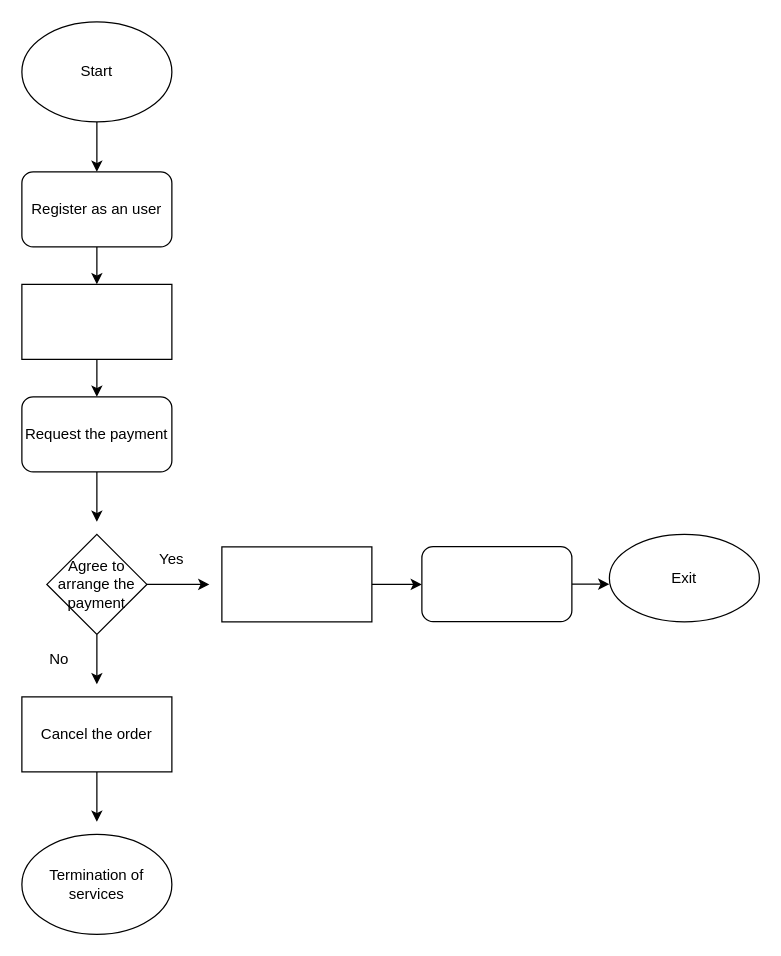
This 781x956 diagram has some shape labels left out. The centre of each missing label's shape, as x and y in pixels:
Check the payment: point 296,584
Generate an order: point 96,321
Received the product: point 496,583
